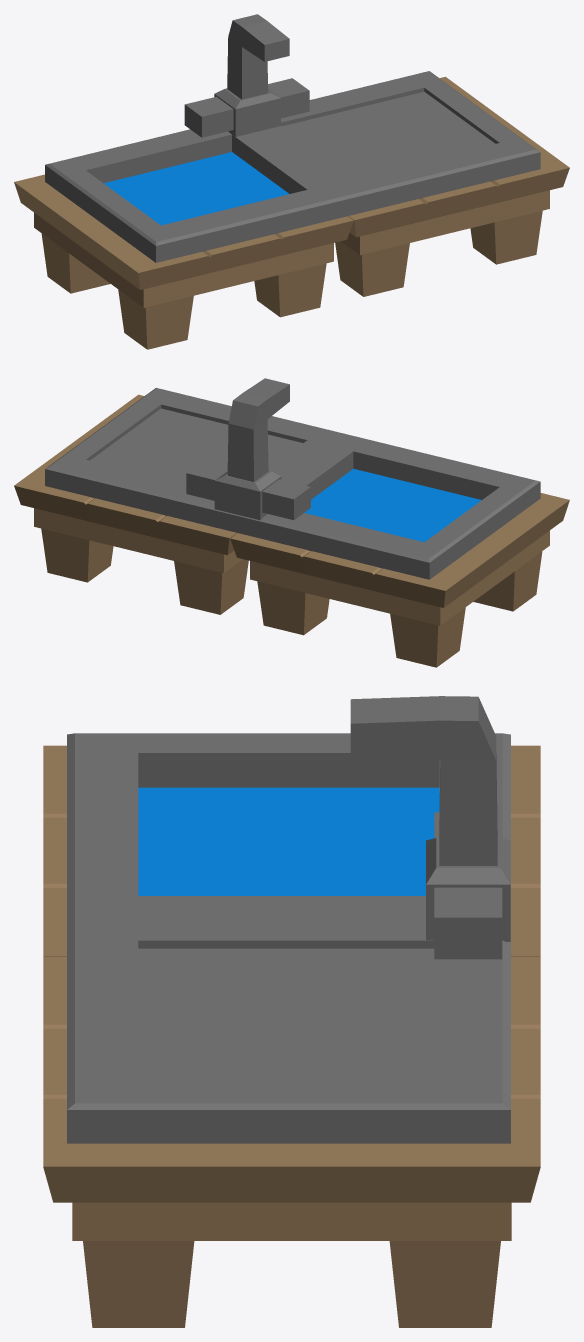
Rendered from SM_Washer.fbx.
3 views of the same model, one above another, from view 1: azimuth 30°, elevation 25°; view 2: azimuth 150°, elevation 25°; view 3: azimuth 270°, elevation 25° (orthographic). The views are drawn at different scales.
Parts seen in each view (by area): view 1: washer; view 2: washer; view 3: washer.
Part boxes in pixels (bbox=[...]): washer: bbox=[14, 14, 569, 349]; washer: bbox=[14, 378, 569, 667]; washer: bbox=[43, 696, 540, 1327].
Size of the model in its own units: 183 by 87.09 by 91.45.
